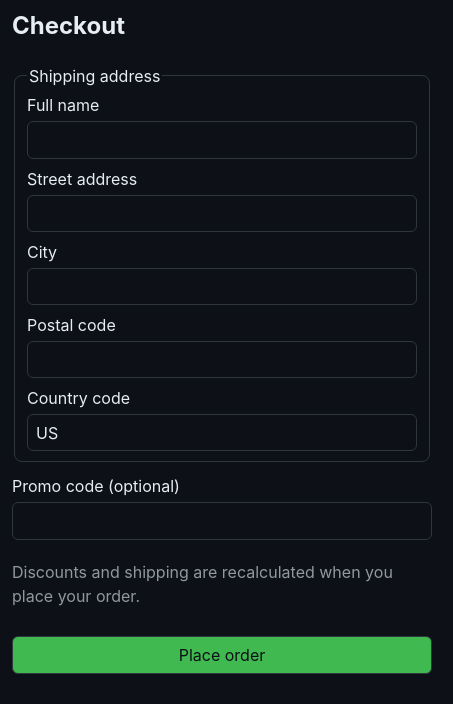
Test: CheckoutForm › shows API errors as an alert
Type "Mona" into the field labelled "Full name".
click(222, 140); type("Mona")  # box [27,121,417,159]
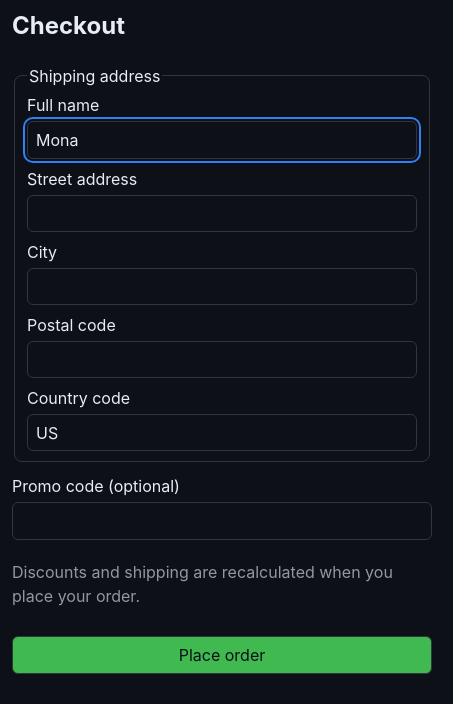
Type "88 Colin P Kelly Jr St" into the field labelled "Street address".
click(222, 213); type("88 Colin P Kelly Jr St")  # box [27,195,417,232]
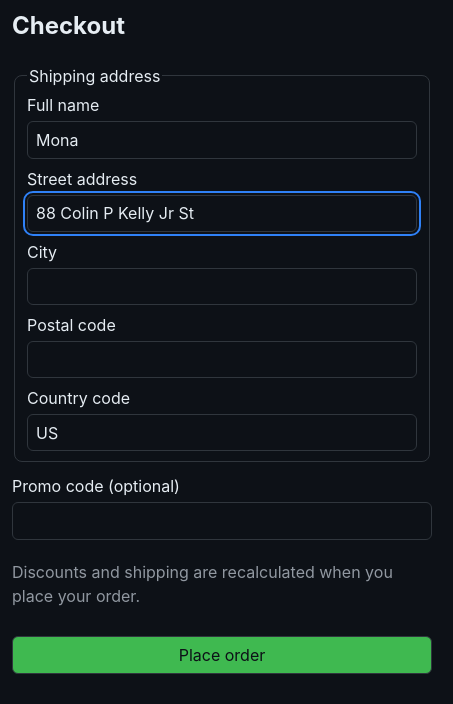
Type "San Francisco" into the field labelled "City".
click(222, 286); type("San Francisco")  # box [27,268,417,305]
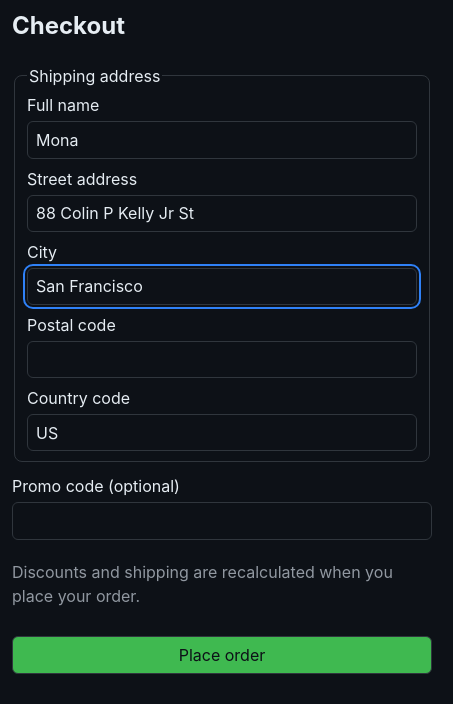
Type "94107" into the field labelled "Postal code".
click(222, 360); type("94107")  # box [27,341,417,378]
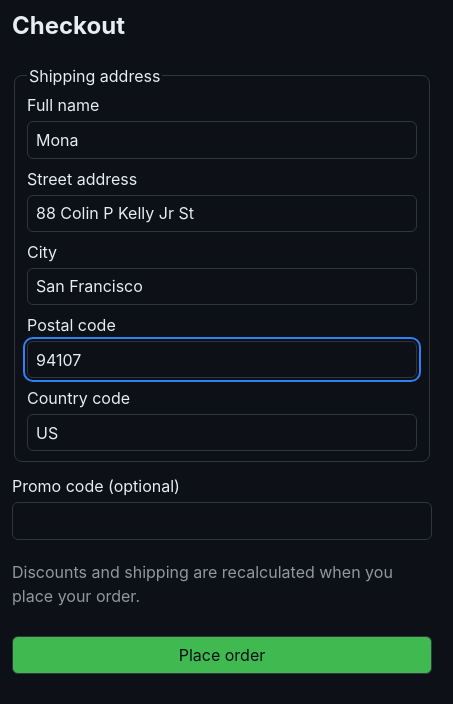
Type "NOPE" into the field labelled "Promo code (optional)".
click(222, 521); type("NOPE")  # box [12,502,432,540]
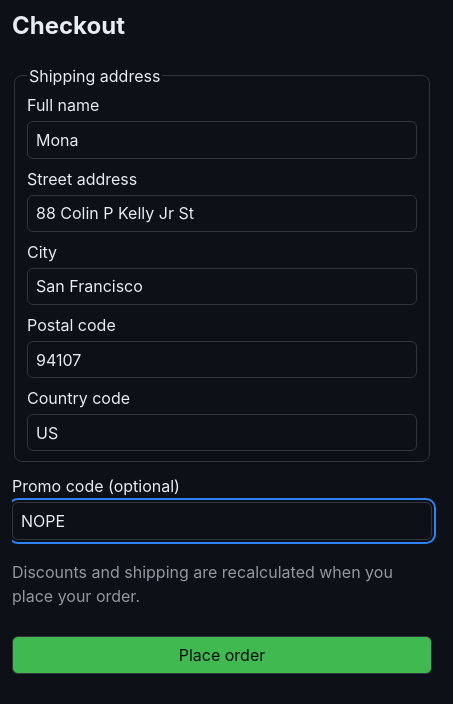
Click the button "Place order".
click(222, 655)  # box [12,636,432,674]
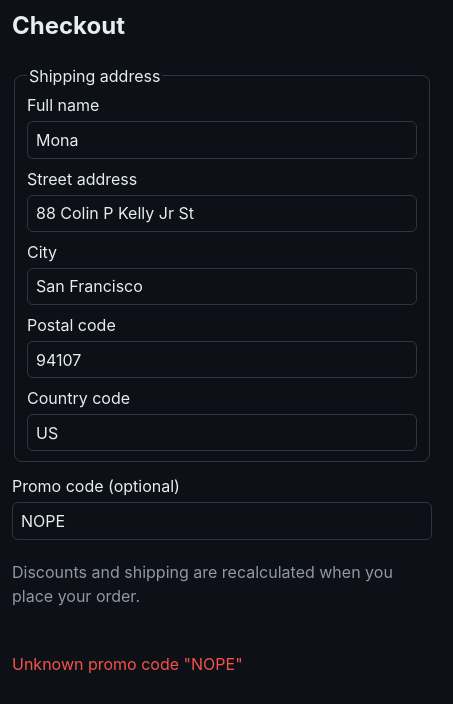
expect the message reads "Unknown promo code \"NOPE\"": met, box [12,654,243,674]
